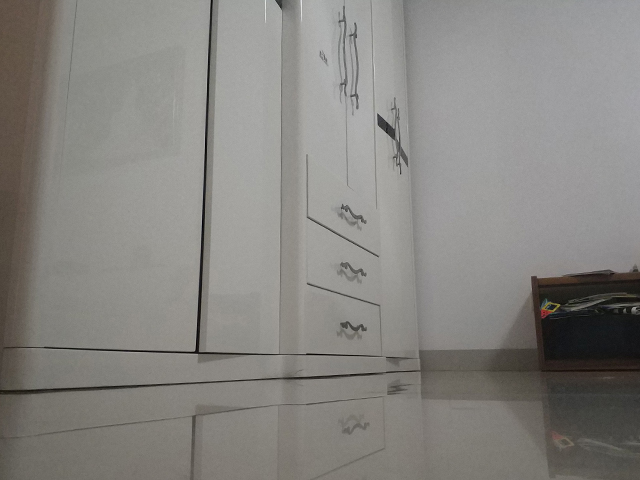cabinet: (1, 1, 422, 396), (528, 264, 640, 374)
